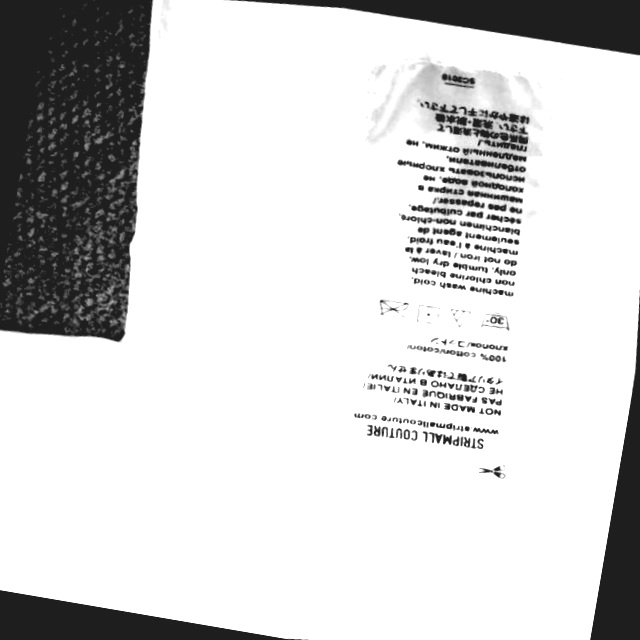30C: (476, 306, 517, 336)
DN_iron: (370, 292, 412, 327)
non_chlorine_bleach: (445, 303, 476, 331)
tumble_dry_low: (411, 299, 449, 329)
